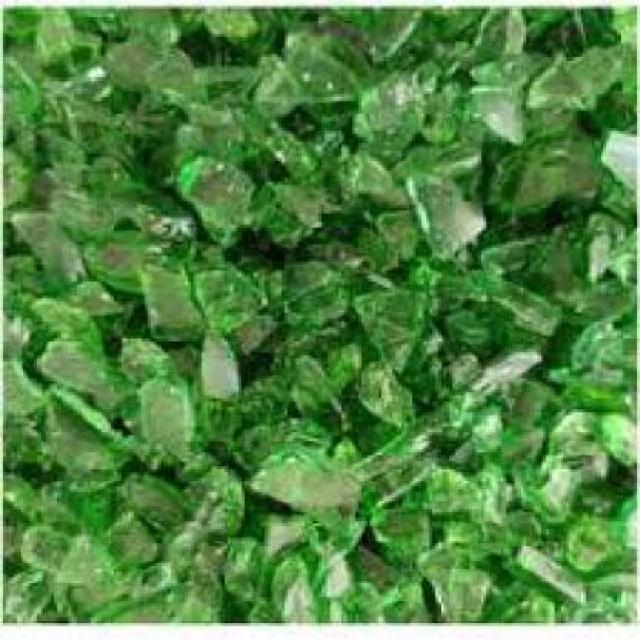kaca: (476, 216, 590, 322), (83, 177, 200, 271), (273, 250, 382, 342), (538, 217, 637, 318), (476, 128, 606, 202), (543, 302, 637, 404), (248, 444, 366, 522), (9, 208, 91, 308), (504, 435, 596, 523), (408, 154, 488, 255), (163, 151, 254, 235), (37, 382, 120, 472), (523, 43, 623, 114), (284, 23, 376, 100), (168, 462, 258, 538), (32, 334, 123, 408), (506, 543, 600, 614), (277, 344, 348, 438), (418, 34, 480, 140), (350, 288, 428, 372), (348, 63, 412, 165), (244, 536, 324, 616), (402, 444, 482, 522), (238, 110, 322, 184), (290, 520, 362, 603), (123, 372, 194, 456), (549, 402, 637, 469), (583, 34, 637, 137), (566, 503, 637, 580), (37, 476, 128, 536), (143, 549, 223, 617), (331, 154, 411, 221), (131, 518, 217, 580), (336, 348, 412, 418), (89, 503, 166, 572), (318, 6, 422, 57), (0, 254, 54, 351), (191, 254, 255, 334), (234, 188, 328, 242), (452, 500, 532, 563), (452, 69, 520, 143), (54, 144, 131, 208), (0, 163, 54, 254), (204, 532, 270, 606), (123, 274, 203, 335), (592, 117, 637, 225), (69, 224, 149, 282), (422, 9, 506, 63), (318, 244, 396, 302), (444, 342, 538, 389), (486, 372, 552, 438), (418, 560, 489, 620), (458, 438, 518, 509), (520, 6, 620, 48), (29, 302, 103, 358), (114, 43, 188, 97), (37, 532, 105, 590), (572, 466, 637, 526), (0, 472, 37, 574), (412, 254, 476, 311), (469, 12, 520, 83), (126, 88, 183, 148), (0, 563, 63, 617), (409, 518, 489, 560), (182, 322, 230, 392), (302, 110, 358, 168), (240, 57, 294, 117), (114, 466, 178, 516), (444, 390, 498, 448), (202, 395, 248, 463), (180, 97, 251, 141), (34, 69, 111, 109), (188, 63, 262, 103), (100, 336, 168, 378), (68, 103, 134, 145), (242, 512, 310, 552), (230, 366, 284, 416), (68, 3, 120, 54), (444, 302, 498, 349), (486, 305, 540, 352), (0, 348, 37, 415), (0, 412, 37, 476), (3, 48, 37, 117), (0, 114, 46, 164), (592, 563, 637, 614), (31, 8, 74, 60), (74, 271, 123, 315), (117, 6, 171, 43), (20, 523, 71, 560), (0, 3, 34, 57), (37, 110, 68, 168), (208, 8, 254, 40), (271, 6, 318, 34), (254, 9, 277, 54), (170, 9, 202, 37)
